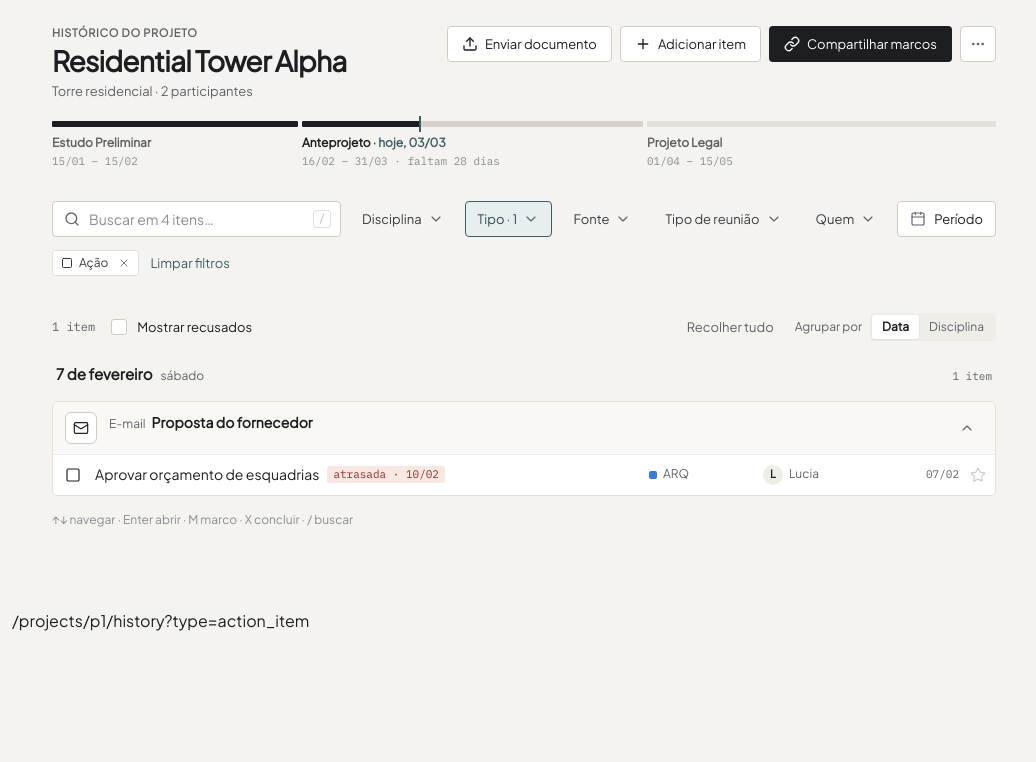
Phase 3b › Histórico › filters from the URL and offers to clear
This screenshot has width=1036, height=762.
Check: the text "1 item" next to "Mostrar recusados" is shown, box [52,318,95,334]
Check: the button named "Remover filtro: Ação" is shown, box [114,253,134,273]
What coordinates should you click on to do the following:
click the button "Limpar filtros"
I would click on:
 (190, 263)
Its box is [149,247,231,279].
(page scrolled)
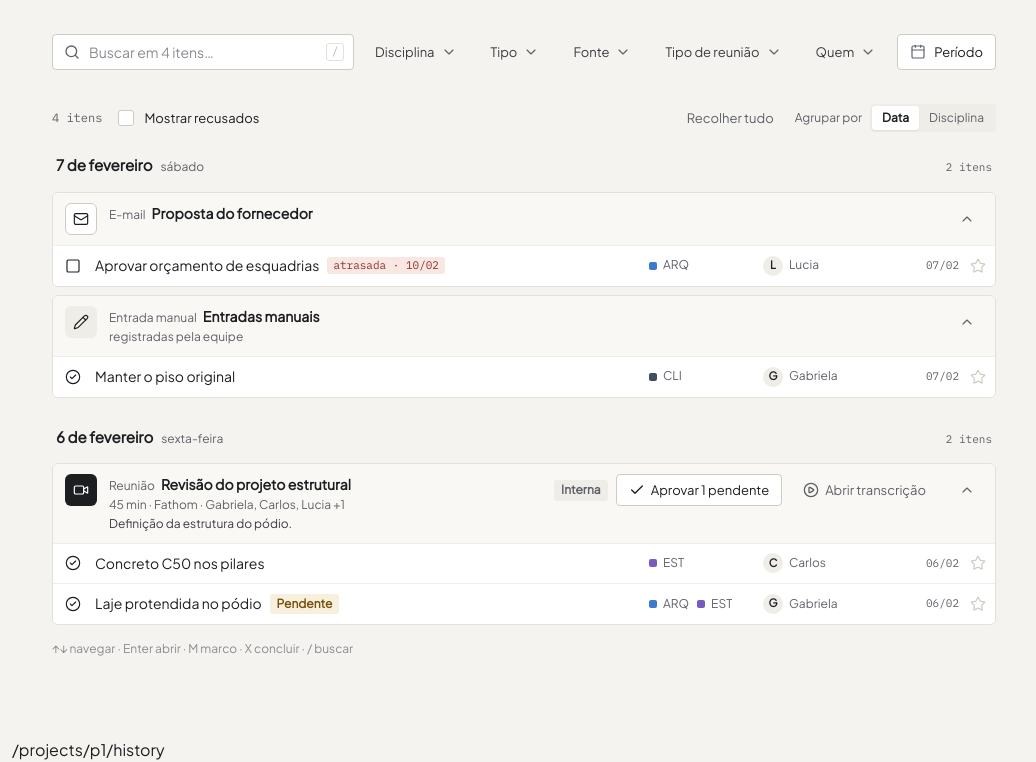
Check: the text "4 itens" is shown, box [52,110,102,126]
Check: the text with test id "where" reads "/projects/p1/history", box [12,739,164,760]
